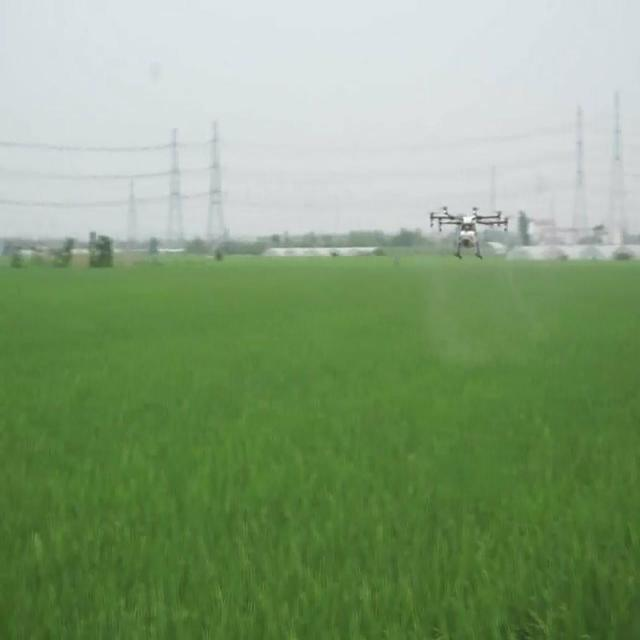UAV: (430, 206, 510, 260)
